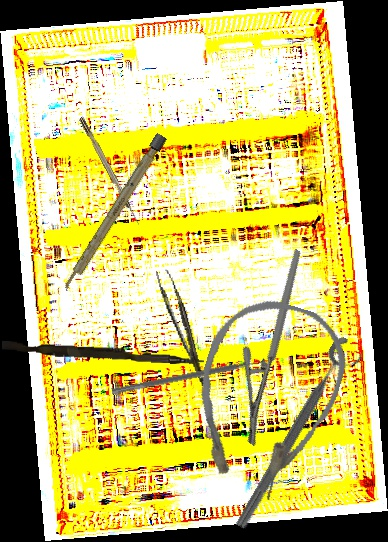Cannula: (172, 286, 359, 511)
Fixation Ring: (230, 333, 368, 539)
Hook Surgical: (78, 115, 142, 228)
Needle Holder: (192, 248, 358, 447)
Pusher: (1, 340, 205, 366)
Scalpel Handle: (60, 132, 168, 294)
Spatula Surgical: (111, 355, 268, 402)
Tissue Forceps: (155, 266, 207, 391)
